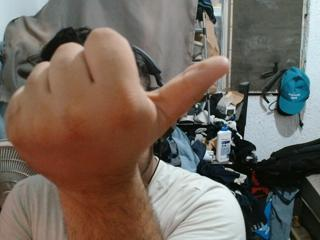Izquierda: (3, 24, 238, 187)
